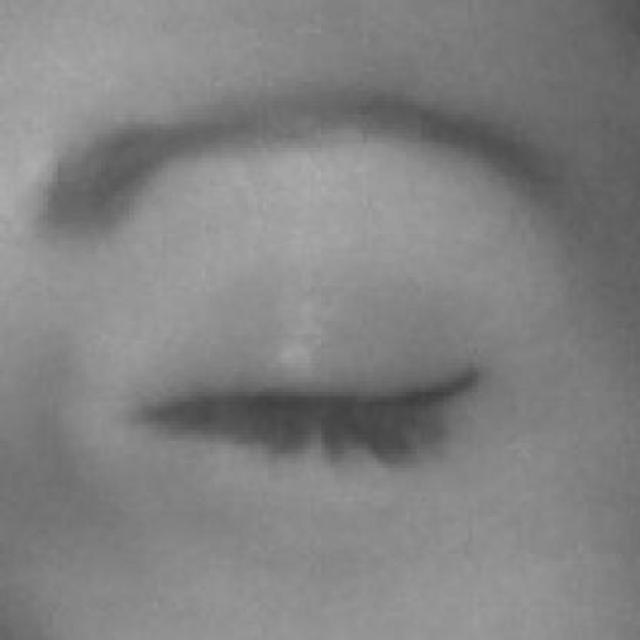drowsy: (125, 266, 490, 568)
